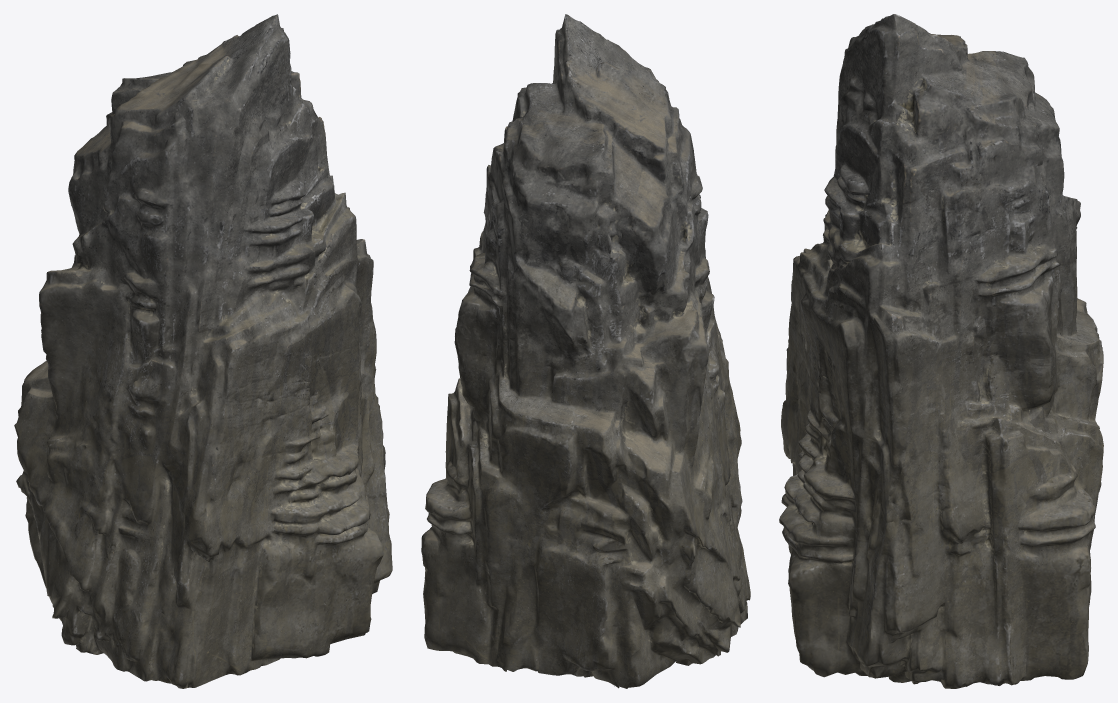
File: free_cliff_rock.glb
3 renders of one model, left to right at view 1: azimuth 30°, elevation 25°; view 2: azimuth 150°, elevation 25°; view 3: azimuth 270°, elevation 25°, orthographic. The views are drawn at different scales.
Visible parts, largest first — view 1: rock2_lp; view 2: rock2_lp; view 3: rock2_lp.
Part boxes in pixels (<box>): rock2_lp: <box>14,14,392,688</box>; rock2_lp: <box>421,14,750,688</box>; rock2_lp: <box>779,14,1103,688</box>.
Bounding box in the file's own units: 22.92 × 42.31 × 19.51.
1 material, 1 textured.
